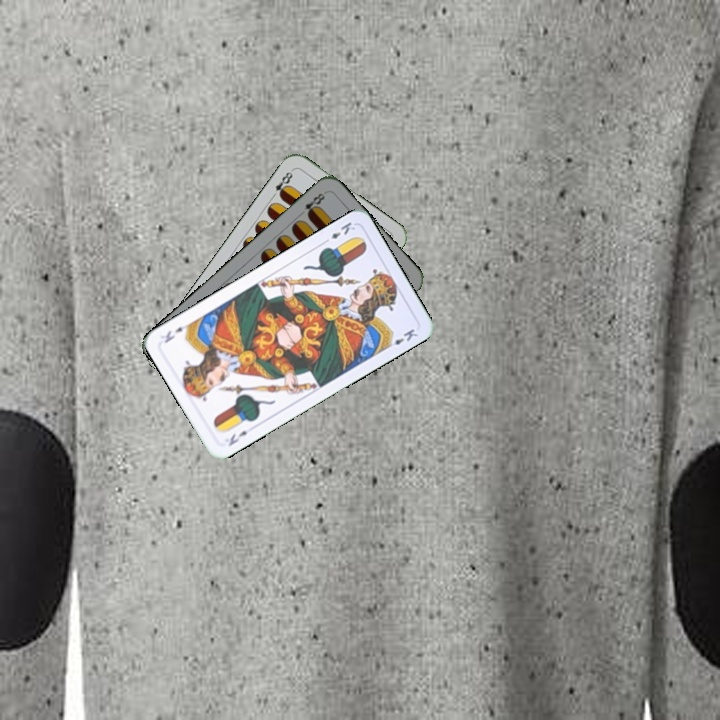E8: (267, 166, 297, 201), (295, 188, 328, 219)
EK: (319, 217, 358, 246), (224, 427, 250, 449)
